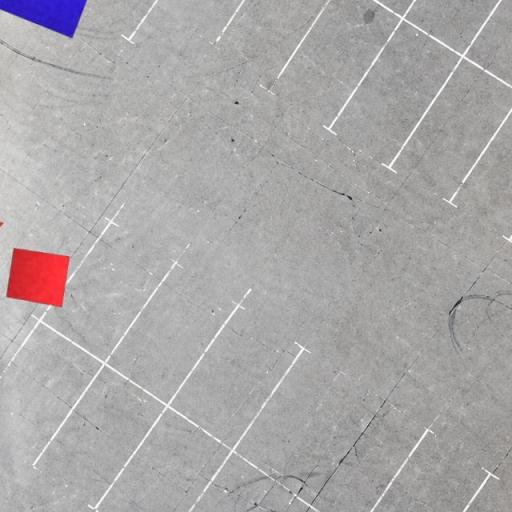RED_SQUARE: (6, 247, 70, 308)
